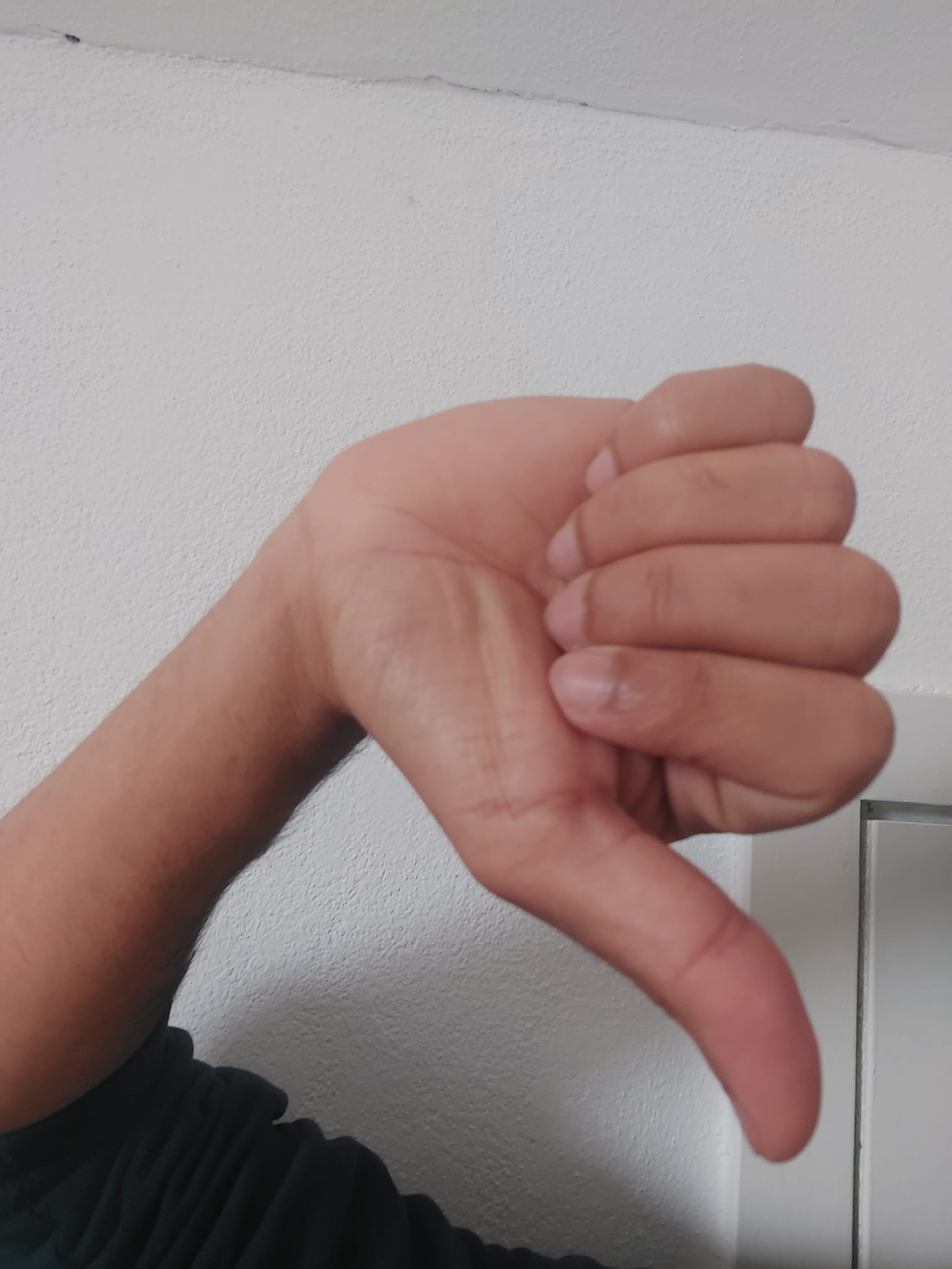Thumbs down: (199, 251, 945, 1186)
